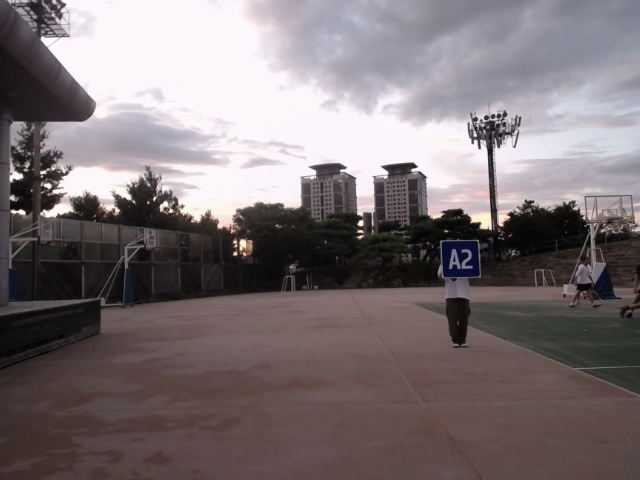delivery_a2: (441, 240, 480, 278)
